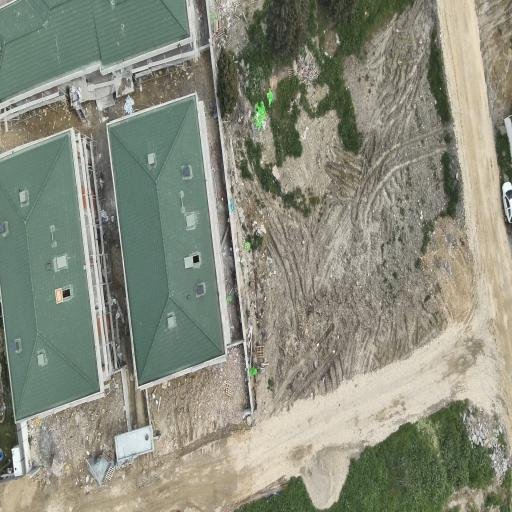car: (502, 182, 511, 223)
